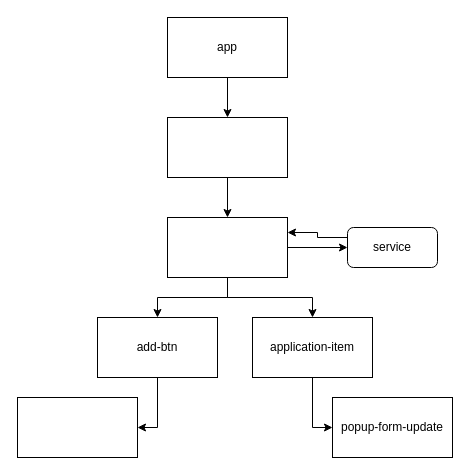
Some shapes in this 470 by 475 pixel diagram are drawn without their labels. Each missing label, with the centre of its shape:
applications: point 227,247
header: point 227,147
popup-form: point 77,427
